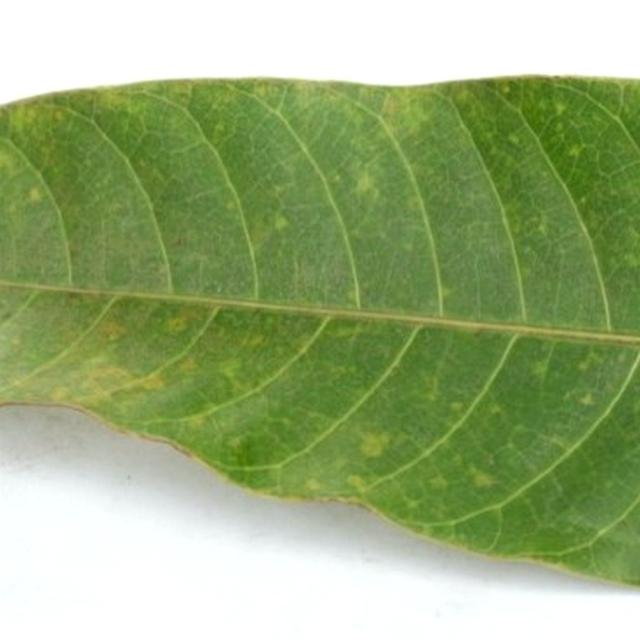Mango: (0, 79, 639, 583)
Powdery_Mildew: (450, 210, 523, 303), (86, 364, 144, 396), (352, 430, 399, 463), (46, 153, 81, 190), (354, 171, 376, 196), (165, 314, 193, 333), (101, 320, 126, 340), (183, 413, 211, 430), (49, 385, 72, 403), (63, 290, 89, 305), (217, 357, 240, 373), (473, 472, 494, 488), (178, 356, 199, 372), (428, 475, 449, 491), (549, 434, 571, 449), (273, 212, 290, 231), (531, 360, 549, 377), (27, 186, 44, 203), (346, 474, 366, 488), (307, 410, 330, 422), (226, 435, 245, 449), (247, 334, 265, 348), (305, 478, 324, 491), (253, 85, 272, 98), (407, 195, 423, 210), (579, 392, 595, 406), (346, 288, 361, 302), (567, 143, 582, 157), (553, 102, 568, 116), (402, 497, 419, 509), (507, 133, 522, 146), (172, 236, 188, 248), (440, 285, 454, 298), (623, 254, 636, 268), (488, 405, 503, 417), (536, 221, 548, 235), (449, 401, 464, 412), (225, 200, 238, 212), (213, 122, 225, 135), (577, 360, 590, 371), (53, 110, 65, 121), (332, 174, 342, 185), (501, 85, 511, 95), (579, 196, 588, 206)
